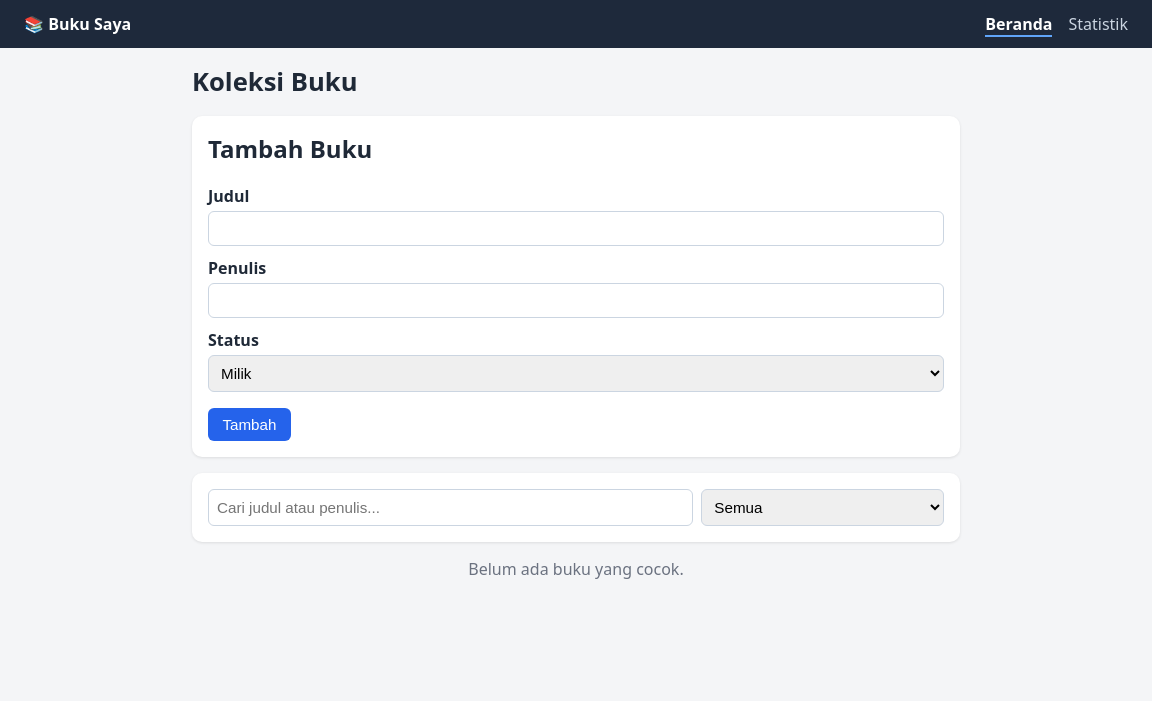
Scenario: Integrasi aplikasi › pencarian memfilter berdasarkan penulis
The image size is (1152, 701).
Type "Bumi" into the field labelled "Judul". click: {"x": 576, "y": 228}
box: 208,211 -> 944,246
Type "Tere Liye" into the field labelled "Penulis". click: {"x": 576, "y": 300}
box: 208,283 -> 944,318
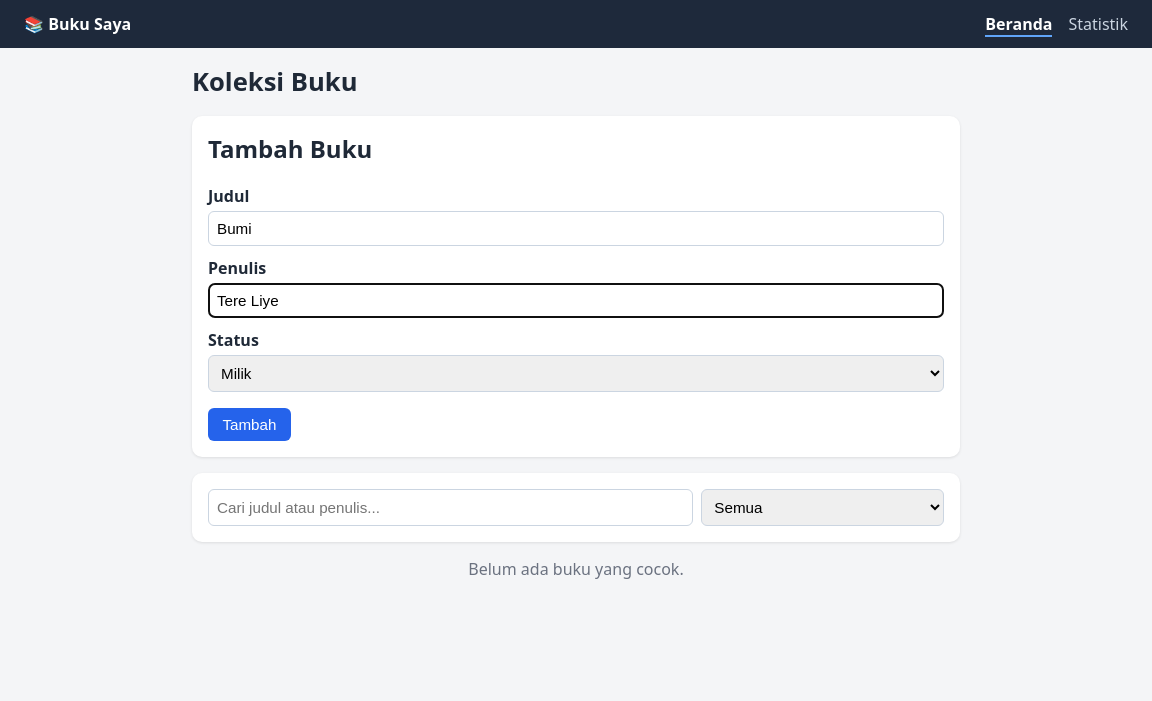
Click the button "Tambah". click: {"x": 249, "y": 424}
box: 208,408 -> 291,441
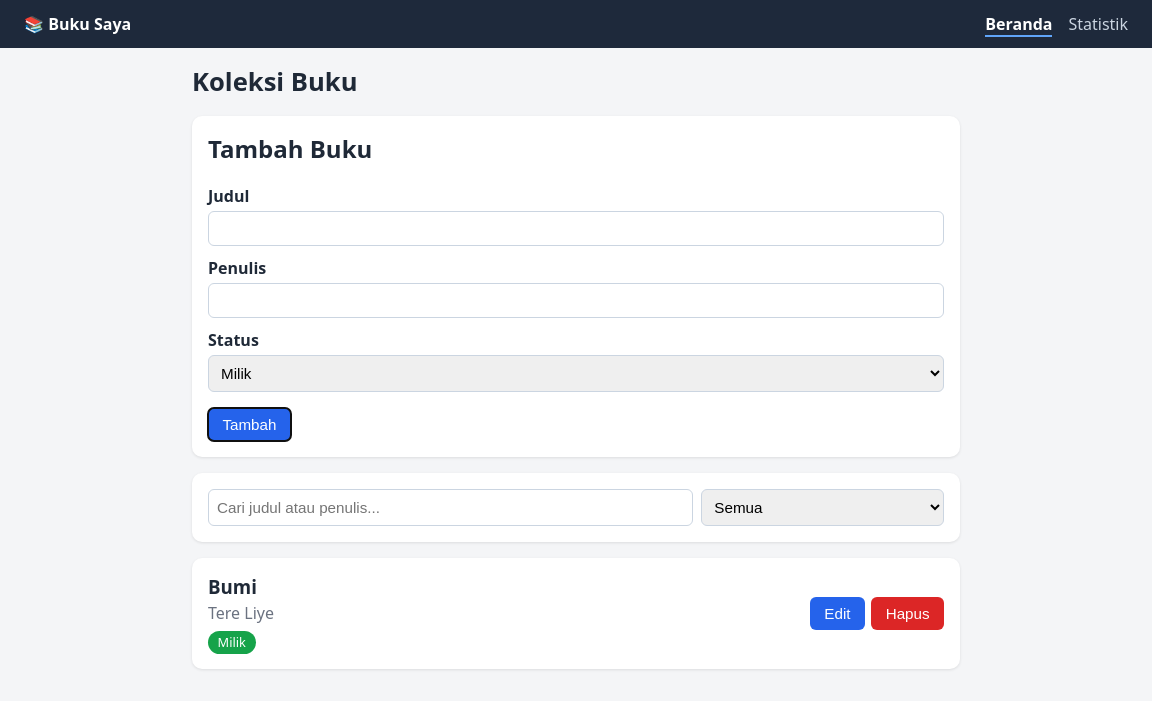
Type "Laskar Pelangi" into the field labelled "Judul". click: {"x": 576, "y": 228}
box: 208,211 -> 944,246
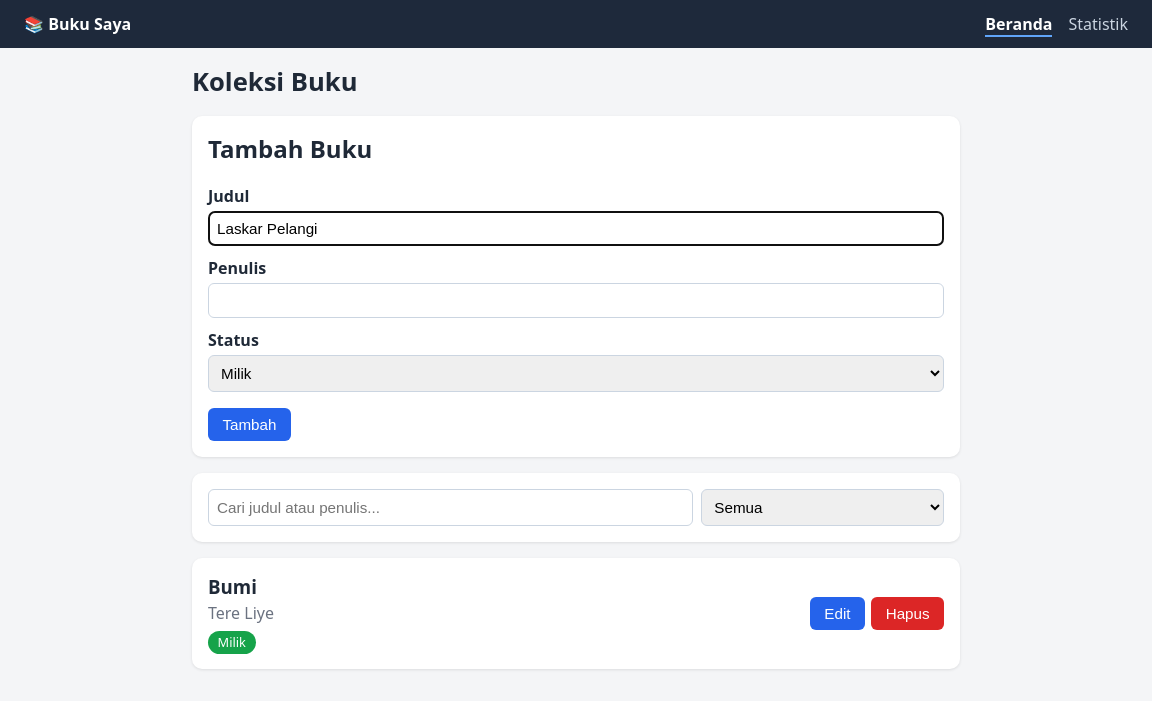
Type "Andrea Hirata" into the field labelled "Penulis". click: {"x": 576, "y": 300}
box: 208,283 -> 944,318
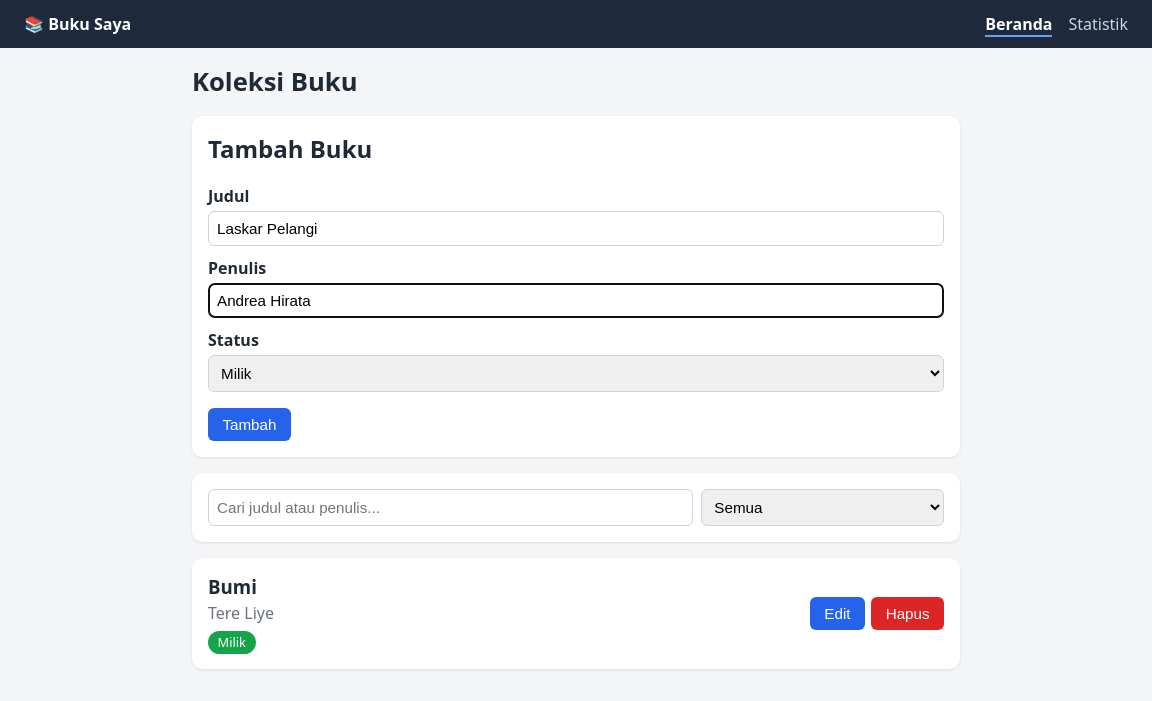
Click the button "Tambah". click: {"x": 249, "y": 424}
box: 208,408 -> 291,441
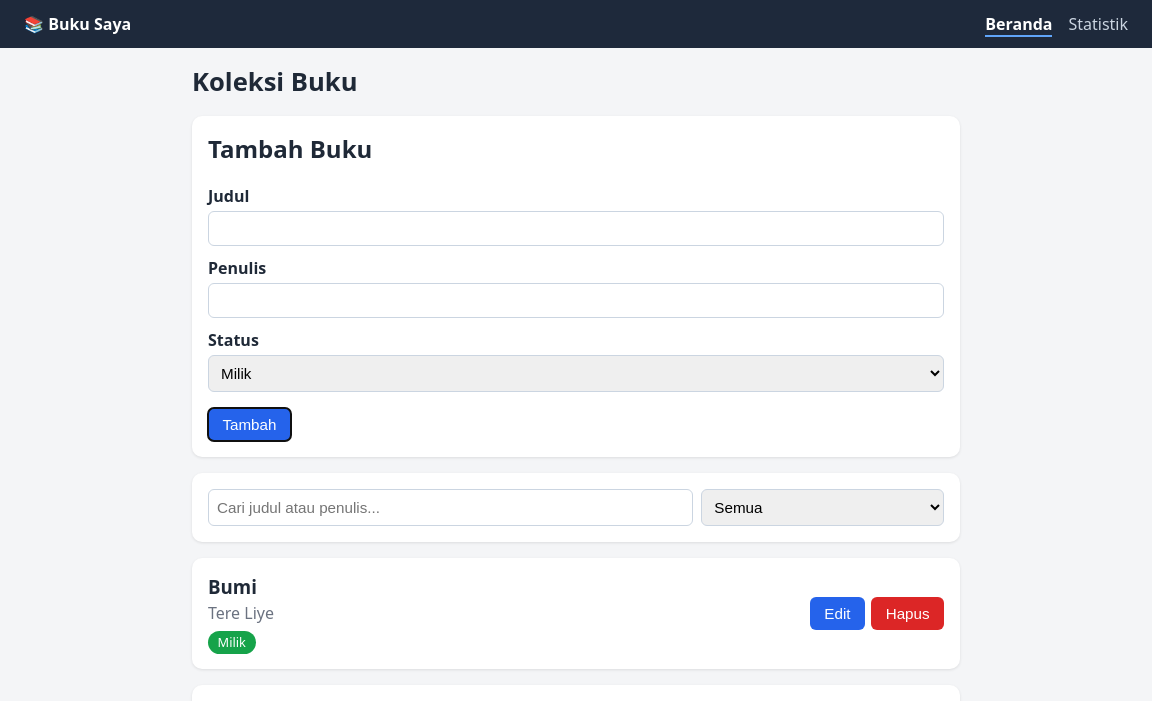
Type "andrea" into the search field named "Cari buku". click: {"x": 451, "y": 508}
box: 208,489 -> 693,526
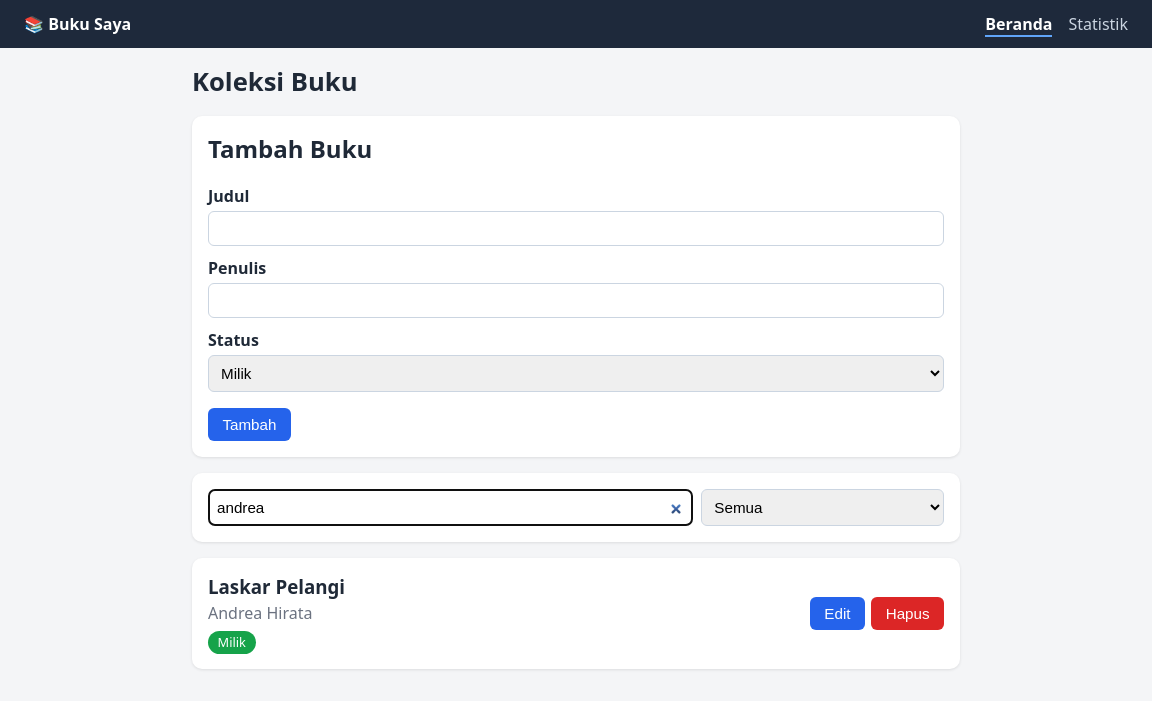
expect the heading "Laskar Pelangi" is shown: met, box 208,574 -> 345,599
expect the heading "Bumi" is gone: met
